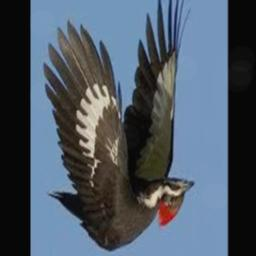Woodpecker: (43, 0, 194, 252)
